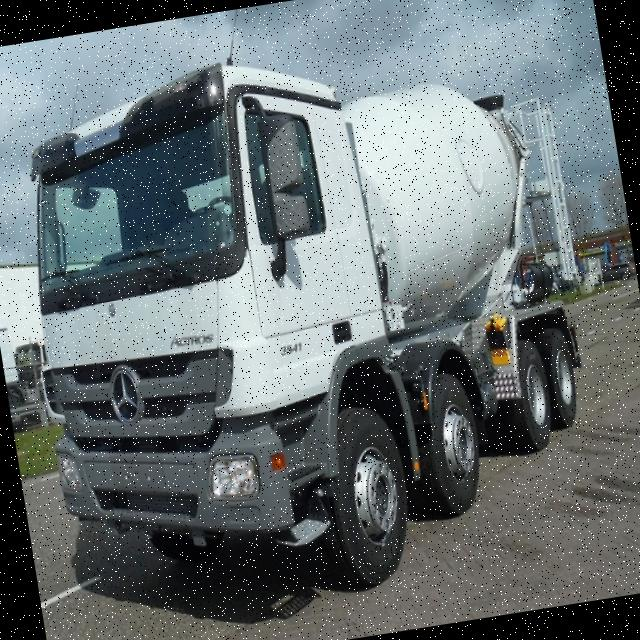Mixer Truck: (0, 13, 621, 629)
